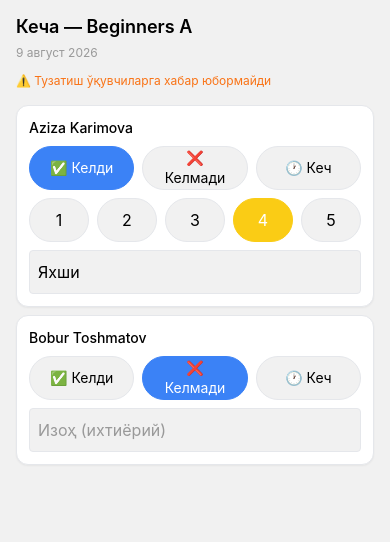
Scenario: Yesterday — correcting › sends every corrected row when several change
Expected: the heading "Кеча — Beginners A" is shown, x1=16 y1=16 x2=192 y2=37
Click the button "🕐 Кеч" below "Aziza Karimova" at (308, 168), box x1=256 y1=146 x2=361 y2=190
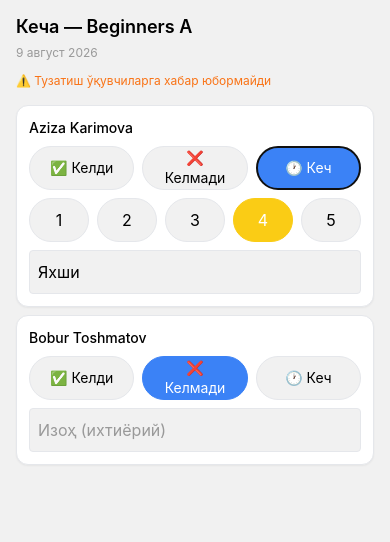
Click the button "✅ Келди" below "Bobur Toshmatov" at (82, 378), box x1=29 y1=356 x2=134 y2=400
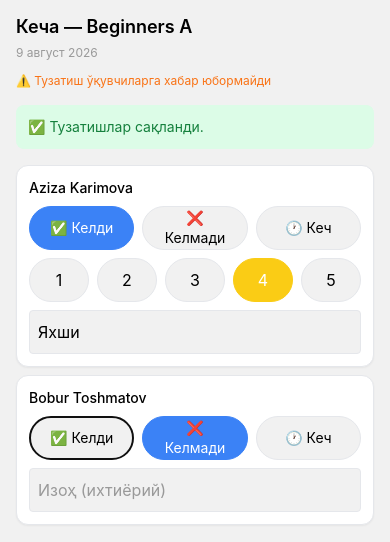
Now the text "✅ Тузатишлар сақланди." is shown, box x1=16 y1=105 x2=374 y2=149
